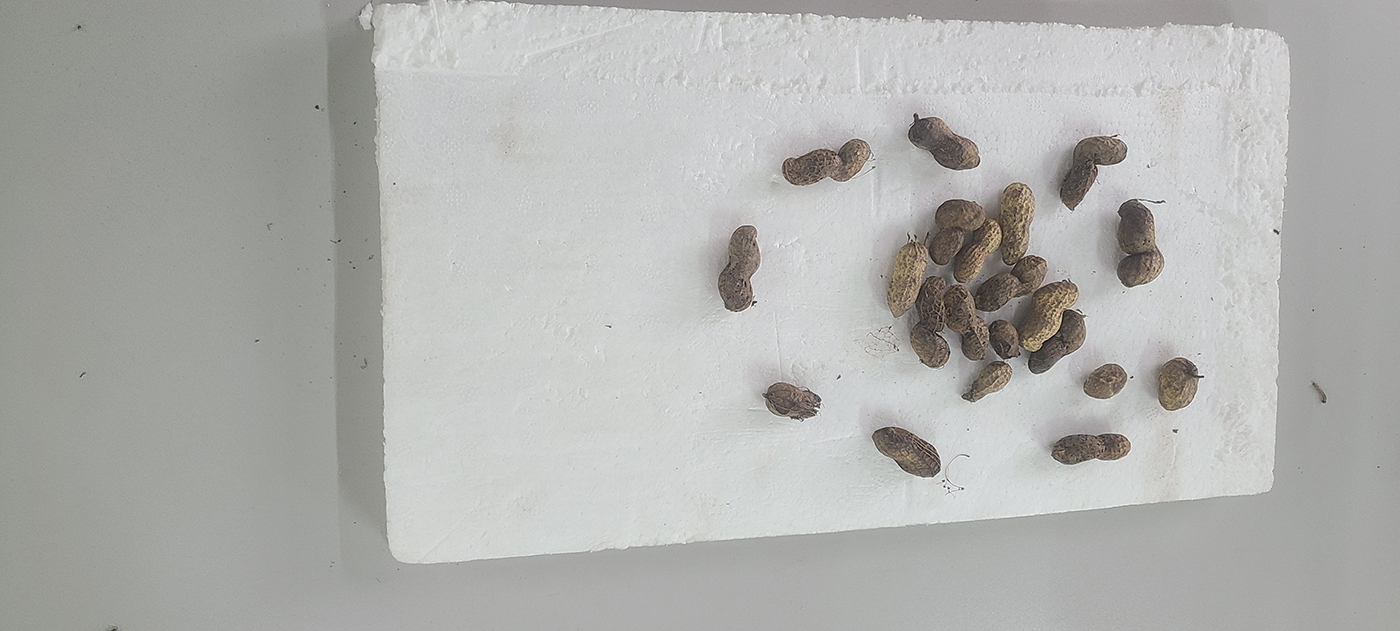l: (1059, 136, 1128, 209), (1115, 201, 1165, 287), (781, 139, 871, 186), (1020, 281, 1078, 351), (908, 116, 982, 170), (976, 257, 1048, 312), (717, 224, 761, 311), (1028, 310, 1087, 374), (910, 277, 951, 368), (874, 427, 941, 478), (945, 285, 989, 361), (888, 240, 927, 317), (954, 220, 1002, 282), (1001, 182, 1036, 264), (1052, 432, 1130, 464), (1157, 358, 1200, 410), (765, 383, 822, 420), (963, 361, 1013, 403), (1083, 363, 1128, 399), (935, 198, 985, 230), (989, 320, 1022, 360), (929, 228, 964, 265)
